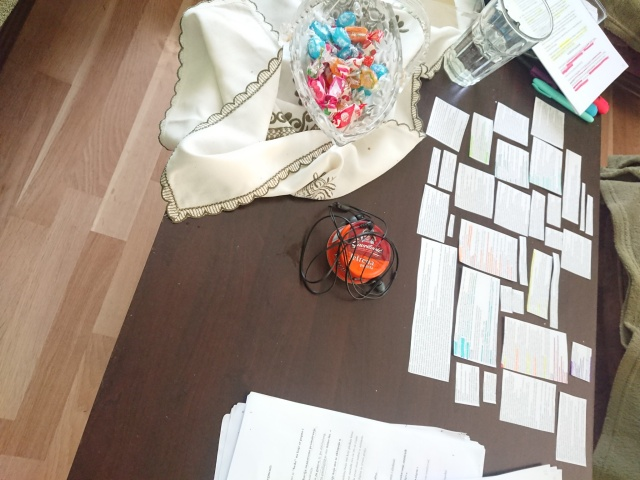Gavrilovic Pork Liver Pate 100g: (323, 218, 393, 285)
